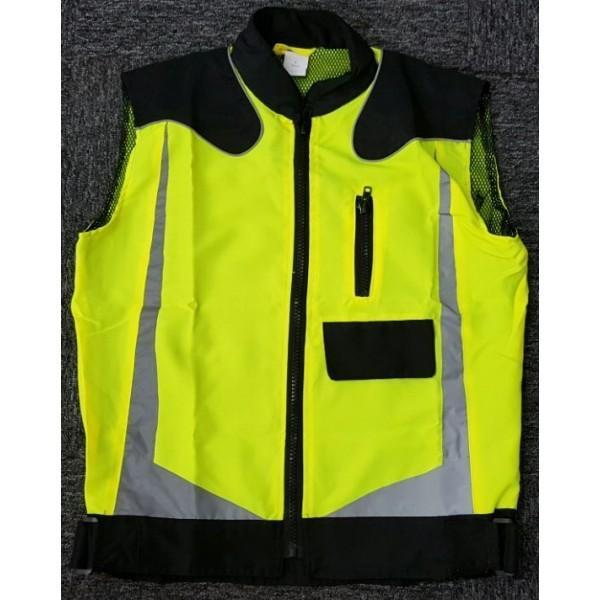vest: (69, 4, 531, 576)
